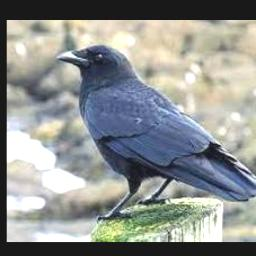Crow: (59, 43, 256, 221)
